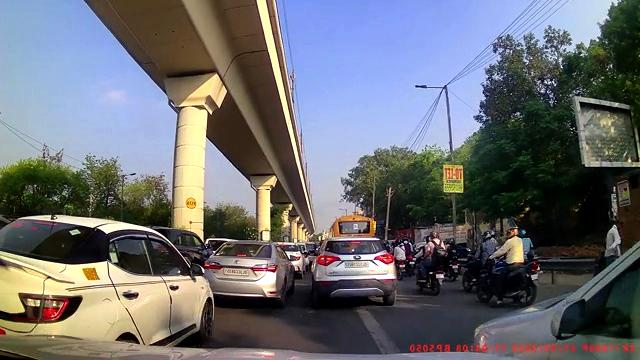motorcycle_with_helmet: (474, 228, 541, 306)
passenger_with_helmet: (413, 229, 449, 299)
